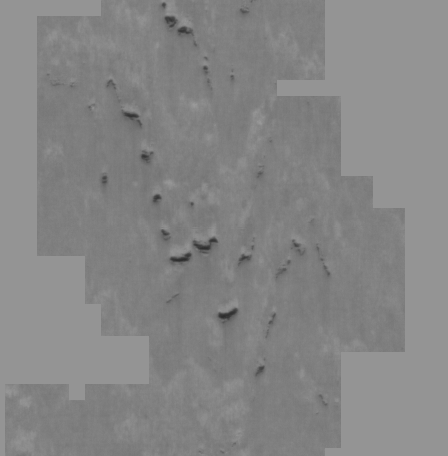oxl: (35, 10, 413, 446)
